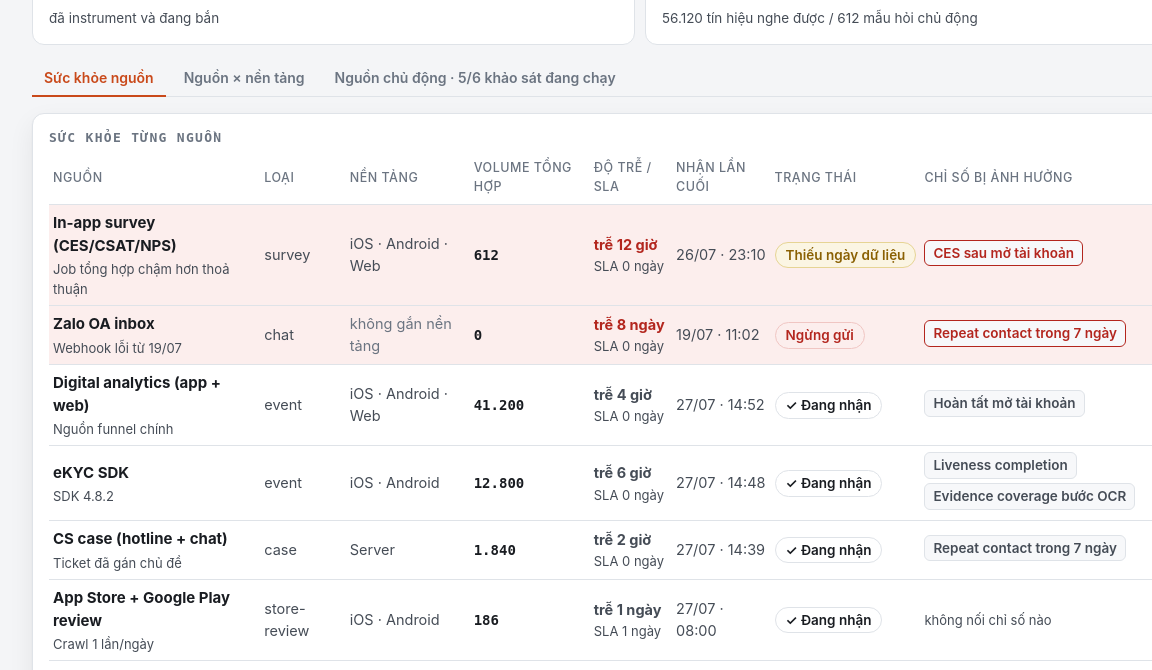
it: SourceProfile — hai mẫu số không được gộp › nguồn không có bằng chứng mẫu nào thì nói là chưa có, không hiện chart rỗng
(page scrolled)
Click the row that starts with "Zalo OA inbox": (600,335) x1=49 y1=306 x2=1151 y2=364
(page scrolled)
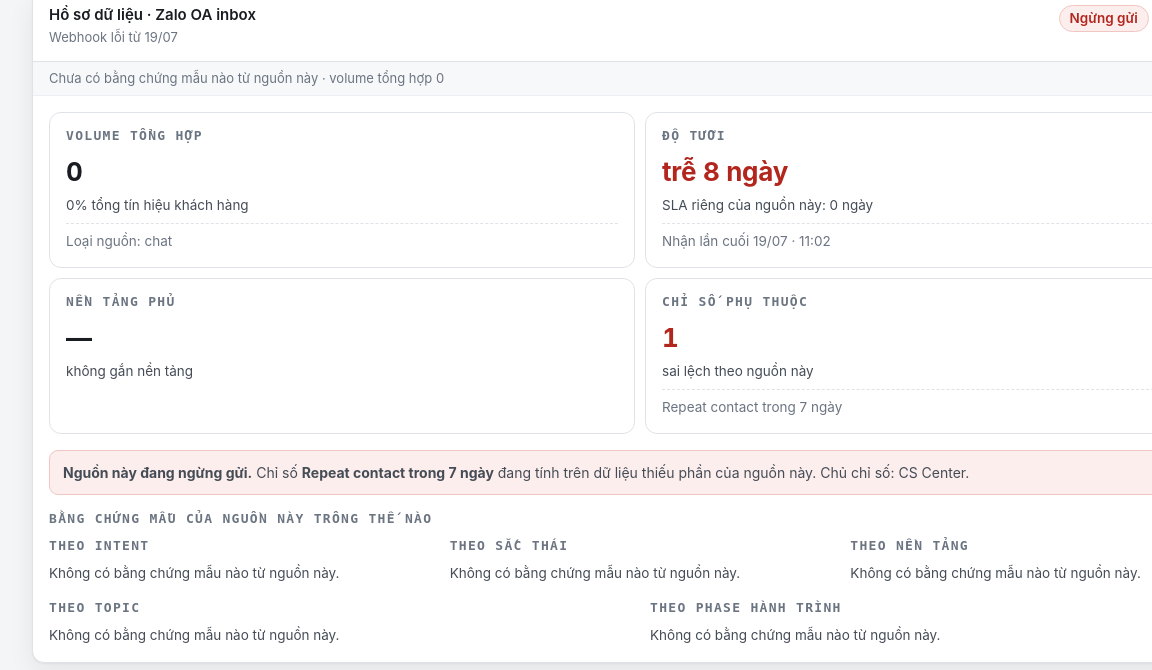
Result: the text with test id "src-profile-denom" shows "Chưa có bằng chứng mẫu nào" at x1=49 y1=70 x2=444 y2=86
Result: the element with test id "src-dist-intent" shows "Không có bằng chứng mẫu nào" at x1=49 y1=565 x2=340 y2=581
